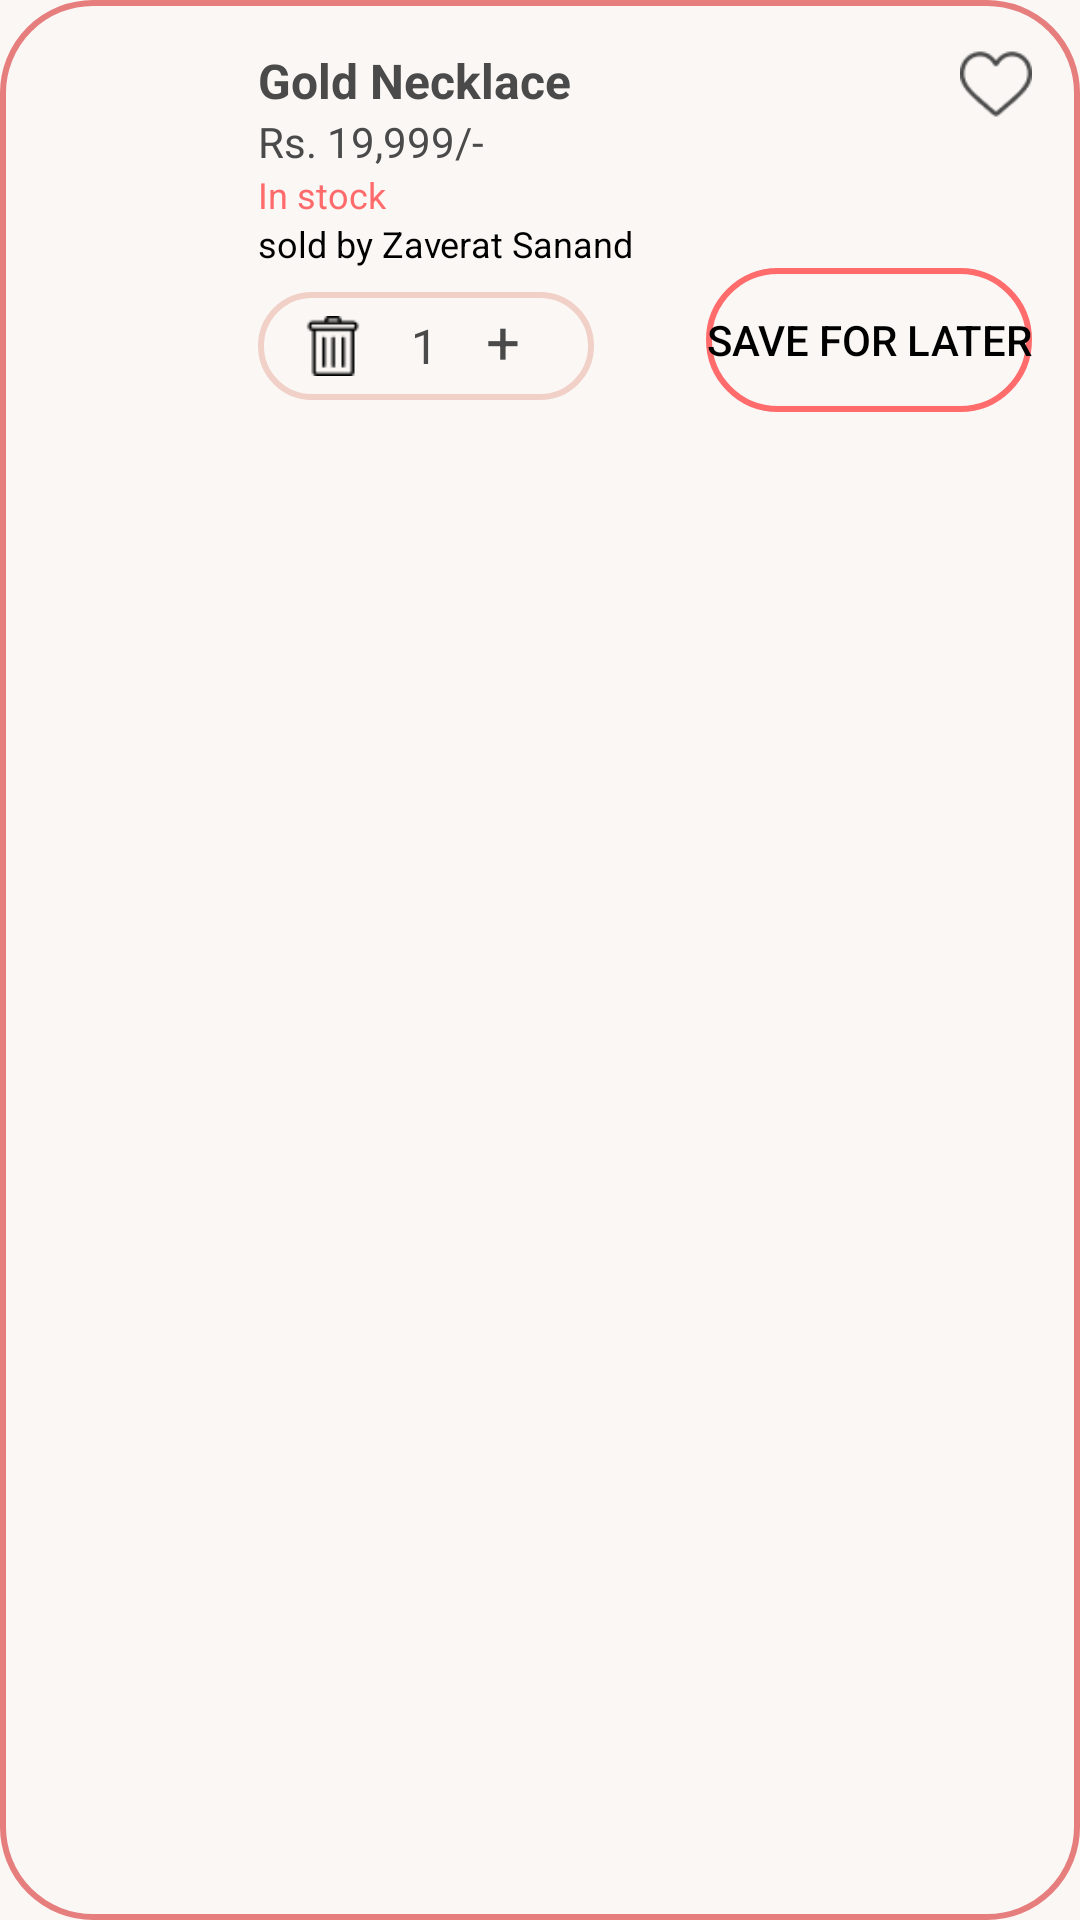

Named icons in this screenshot (1080 × 1920) and their bounding boxes, (x1, y1, x2, y2):
heart: (960, 51, 1032, 117)
